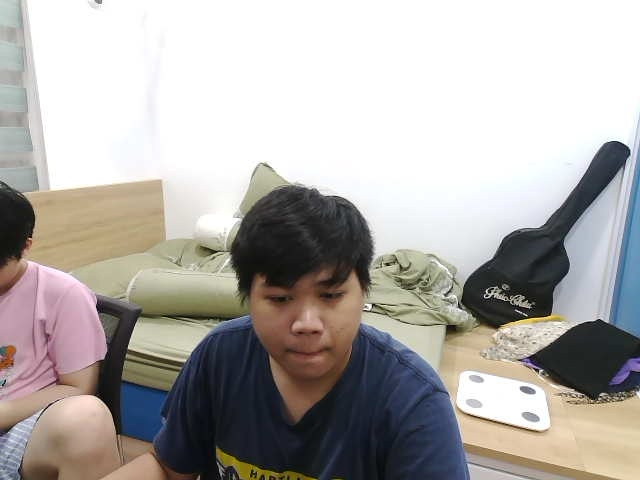face: (229, 186, 377, 379)
